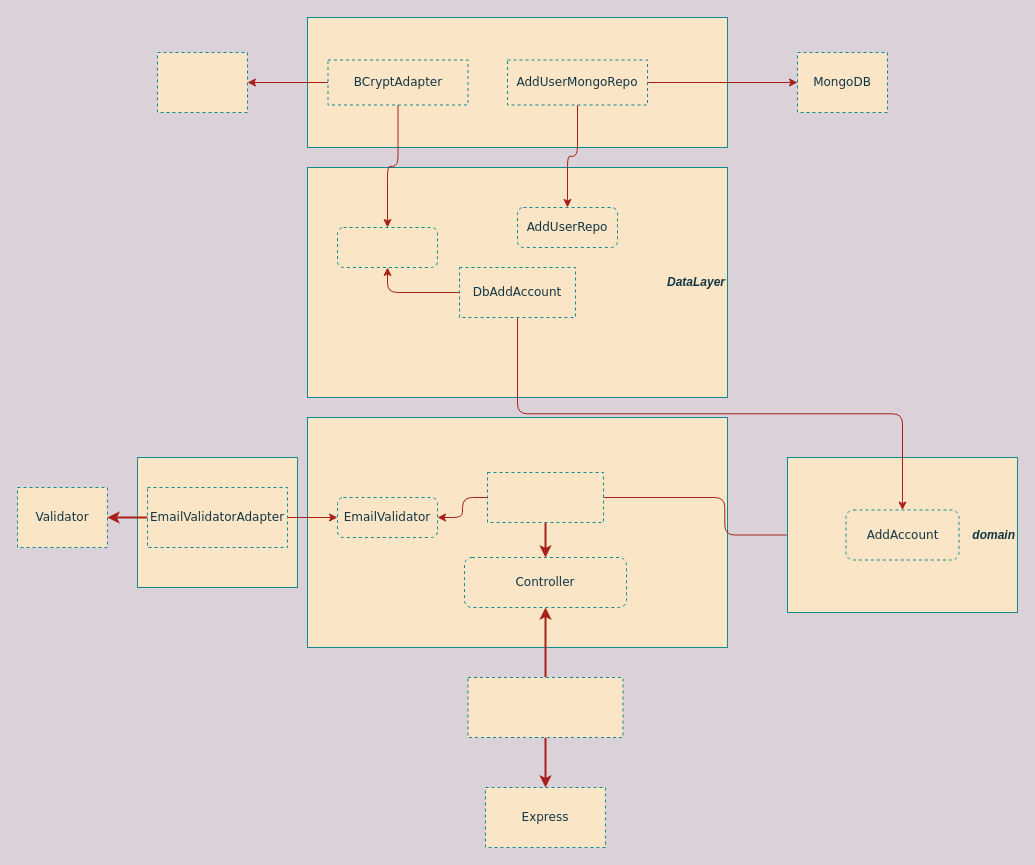
This 1035x865 diagram has some shape labels left out. The box of each missing label's shape, as (x1, y1, x2, y2) in pixels:
Bcrypt: (156, 52, 248, 112)
Encrypter: (336, 226, 438, 268)
ExpressRouterAdapter: (467, 676, 623, 738)
InfraLayer: (306, 16, 728, 148)
Presentation: (306, 416, 728, 648)
Singup Controller: (486, 472, 604, 522)
utils: (136, 456, 298, 588)
